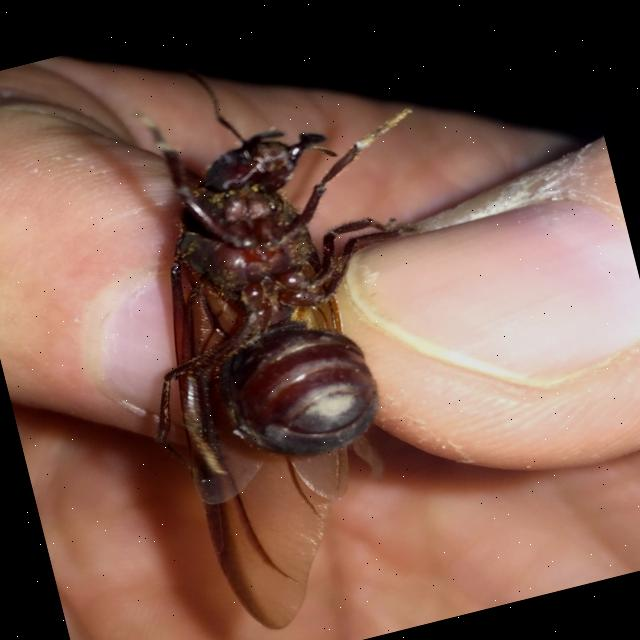Alive-Female-Alate: (81, 79, 529, 640)
